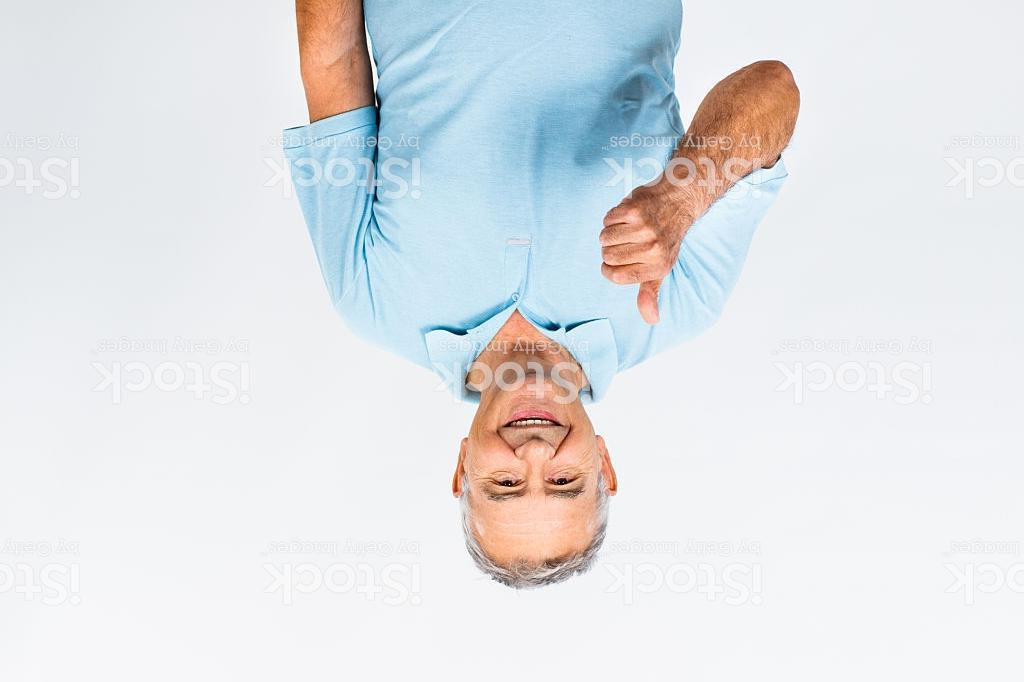thumbsdown: (597, 180, 681, 330)
